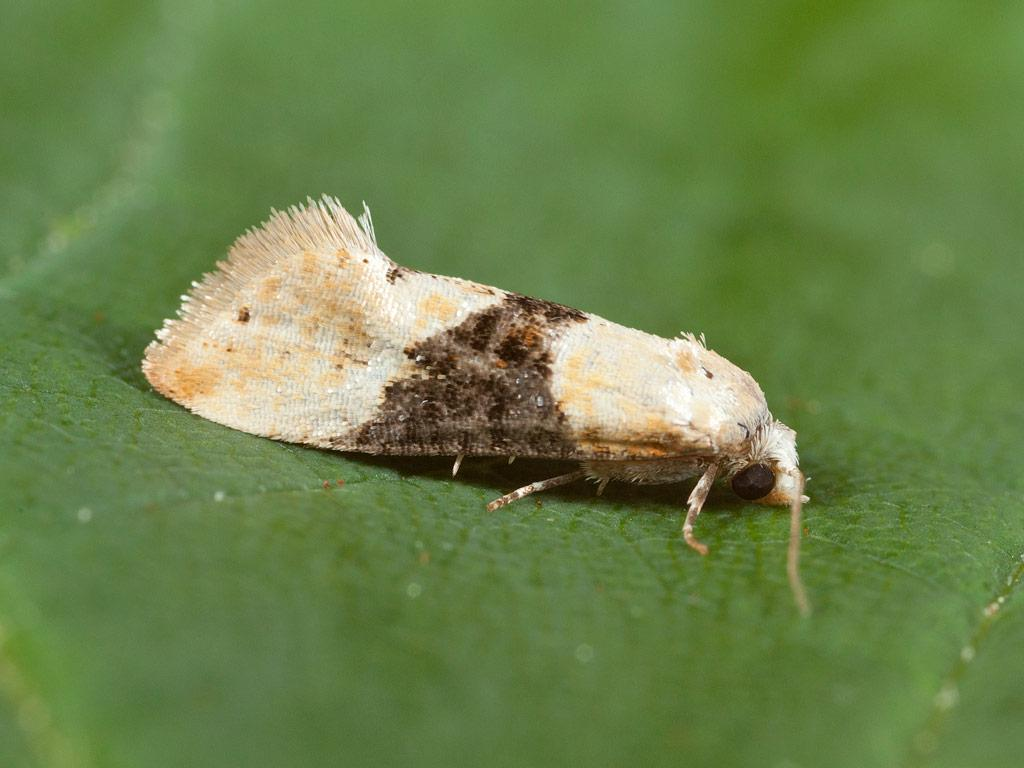Eupoecilia Ambiguella: (138, 191, 817, 618)
